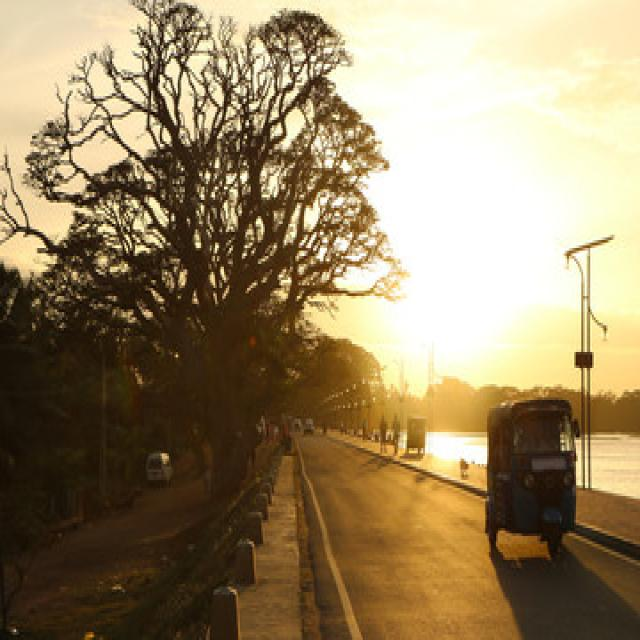three wheeler: (485, 397, 574, 557), (405, 419, 425, 453)
van: (148, 453, 171, 483)
